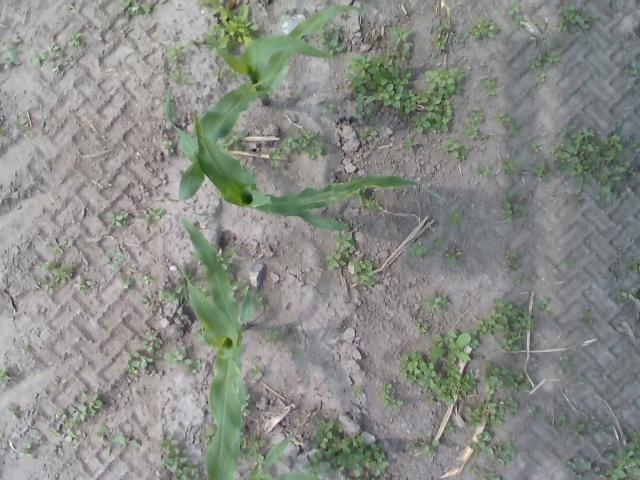Maize: (162, 85, 444, 232), (180, 4, 364, 200), (178, 215, 260, 480), (241, 435, 321, 480)
Weeds: (303, 417, 390, 480), (346, 52, 419, 120), (549, 120, 628, 180), (474, 298, 536, 352), (414, 67, 464, 133), (598, 428, 640, 480), (426, 329, 479, 370), (158, 433, 202, 480), (464, 389, 517, 426), (424, 370, 476, 406), (480, 360, 534, 392), (220, 2, 259, 46), (399, 350, 439, 390), (280, 126, 328, 158), (554, 4, 600, 36), (309, 20, 345, 56), (525, 39, 563, 71), (27, 45, 71, 72), (68, 392, 104, 424), (198, 21, 232, 54), (38, 261, 73, 290), (463, 106, 489, 142), (237, 431, 266, 460), (490, 438, 518, 468), (214, 128, 248, 152), (349, 256, 376, 286), (0, 33, 23, 68), (501, 190, 527, 220), (378, 380, 404, 410), (122, 350, 154, 374), (469, 16, 500, 40), (433, 18, 455, 51), (564, 455, 593, 480), (440, 138, 470, 162), (469, 431, 494, 458), (568, 413, 592, 441), (595, 174, 619, 202), (353, 190, 382, 213), (494, 112, 521, 136), (195, 0, 228, 19), (226, 274, 249, 301), (157, 282, 188, 302), (407, 438, 440, 456), (390, 26, 414, 50), (214, 244, 236, 270), (138, 328, 160, 354), (166, 68, 196, 87), (62, 421, 81, 451), (423, 292, 450, 313), (572, 174, 588, 207), (96, 424, 113, 455), (118, 0, 150, 16), (100, 248, 124, 269), (113, 433, 142, 450), (332, 230, 355, 251), (212, 65, 242, 81), (325, 249, 349, 269), (163, 346, 186, 366), (136, 208, 164, 224), (165, 43, 188, 62), (261, 326, 285, 344), (118, 268, 134, 295), (528, 160, 550, 179), (74, 275, 95, 294), (406, 240, 428, 258), (104, 210, 128, 226), (479, 76, 498, 96), (443, 247, 465, 264), (500, 155, 518, 175), (504, 250, 522, 270), (184, 357, 202, 375), (358, 126, 380, 140), (14, 442, 33, 458), (194, 283, 213, 299), (319, 98, 336, 115), (34, 112, 52, 128), (528, 404, 546, 420), (401, 136, 419, 152), (480, 467, 502, 480), (448, 206, 462, 226), (476, 164, 494, 178), (536, 296, 550, 314), (268, 148, 282, 166), (159, 138, 174, 154), (248, 363, 262, 380), (48, 240, 66, 253), (624, 166, 640, 180), (200, 428, 214, 444), (0, 362, 10, 384), (193, 324, 205, 342), (624, 255, 638, 270), (254, 294, 270, 307), (68, 32, 82, 46), (554, 414, 568, 428), (506, 0, 520, 14), (136, 271, 152, 283), (416, 317, 428, 333), (628, 60, 640, 76), (445, 420, 456, 437), (627, 136, 640, 150), (287, 348, 302, 360), (582, 306, 592, 324), (14, 116, 28, 128), (4, 406, 18, 418), (535, 74, 547, 88), (351, 385, 363, 397), (513, 15, 524, 28), (458, 32, 468, 46), (468, 464, 479, 476), (432, 234, 443, 246), (55, 411, 68, 421), (616, 289, 626, 302), (560, 354, 569, 368), (536, 20, 548, 30), (348, 174, 360, 184), (528, 140, 539, 150), (51, 428, 61, 438), (566, 258, 576, 268), (518, 275, 529, 283), (66, 0, 74, 9), (141, 296, 150, 304), (290, 89, 298, 98), (22, 345, 32, 351), (339, 10, 347, 17), (195, 96, 201, 103), (0, 129, 5, 136)
